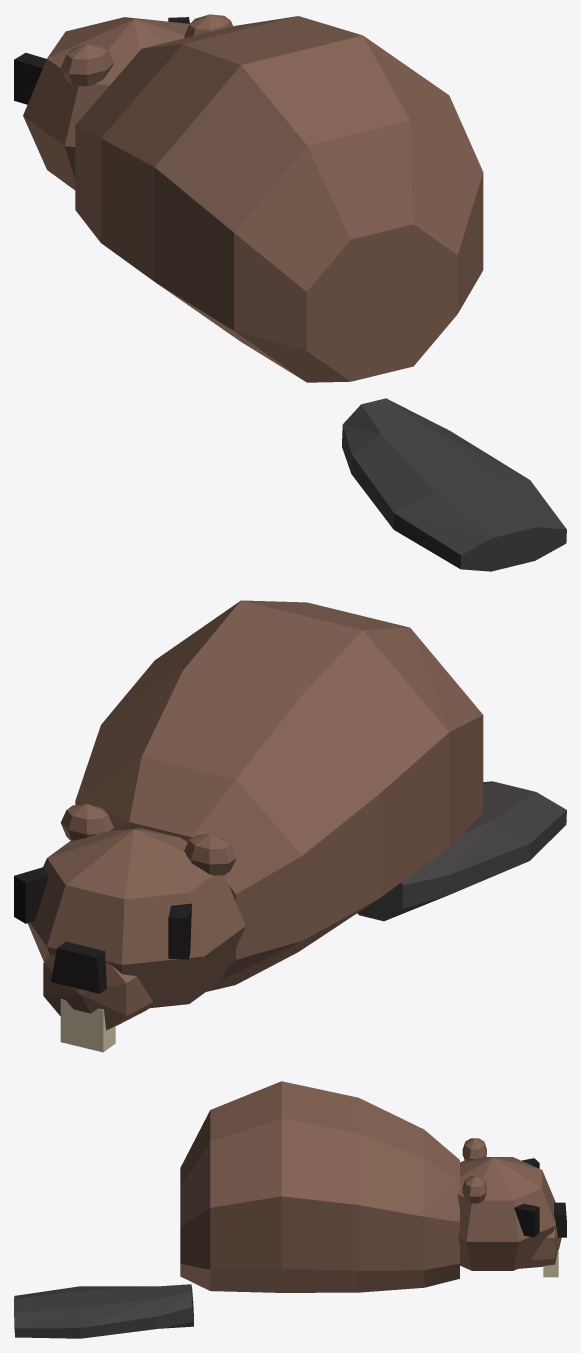
Rendered from animal_alphabeaver.obj.
3 renders of one model, top to bottom at view 1: azimuth 30°, elevation 25°; view 2: azimuth 150°, elevation 25°; view 3: azimuth 270°, elevation 25°, orthographic. The views are drawn at different scales.
Visible parts, largest first — view 1: animal_alphabeaver; view 2: animal_alphabeaver; view 3: animal_alphabeaver.
Part boxes in pixels (left/top/right/bottom): animal_alphabeaver: left=14, top=14, right=566, bottom=571; animal_alphabeaver: left=14, top=600, right=566, bottom=1052; animal_alphabeaver: left=14, top=1081, right=566, bottom=1338.
Size of the model in its own units: 0.3604 by 0.4224 by 0.93.
